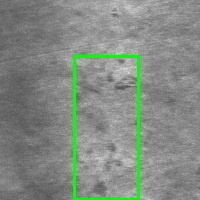rolled-in_scale: (74, 56, 138, 199)
